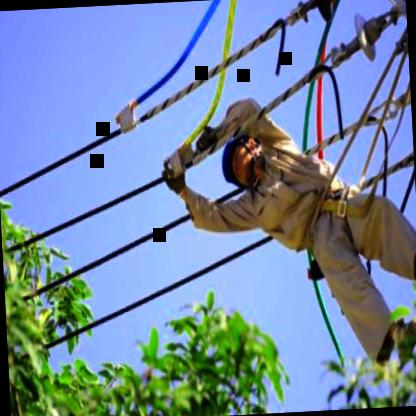helmet: (216, 122, 263, 195)
